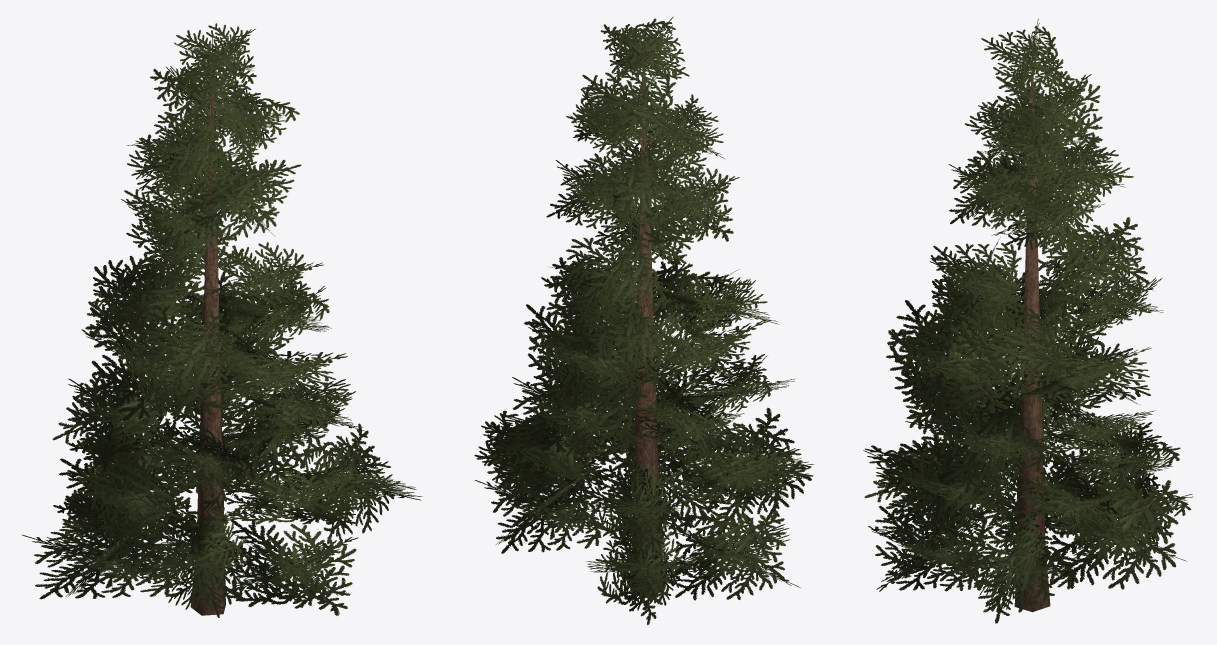
File: spruce.glb
3 views of the same model, side by side, from view 1: azimuth 30°, elevation 25°; view 2: azimuth 150°, elevation 25°; view 3: azimuth 270°, elevation 25° (orthographic). The views are drawn at different scales.
Parts seen in each view (by area): view 1: spruce_foliage, spruce_wood; view 2: spruce_foliage, spruce_wood; view 3: spruce_foliage, spruce_wood.
Part boxes in pixels (box(x1,y1,x2,y2)): spruce_foliage: box(22, 23, 422, 617); spruce_wood: box(190, 32, 225, 615); spruce_foliage: box(474, 16, 813, 625); spruce_wood: box(631, 25, 663, 595); spruce_foliage: box(863, 18, 1193, 623); spruce_wood: box(1014, 33, 1050, 612).
Bounding box in the file's own units: 6.44 × 9.68 × 5.32.
Materials: 2 (2 with a texture image).
